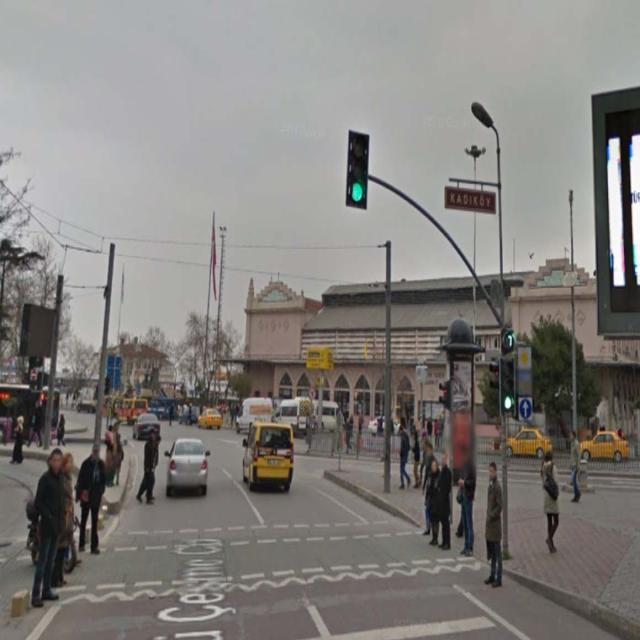yesil: (346, 130, 366, 210), (502, 356, 513, 413)
